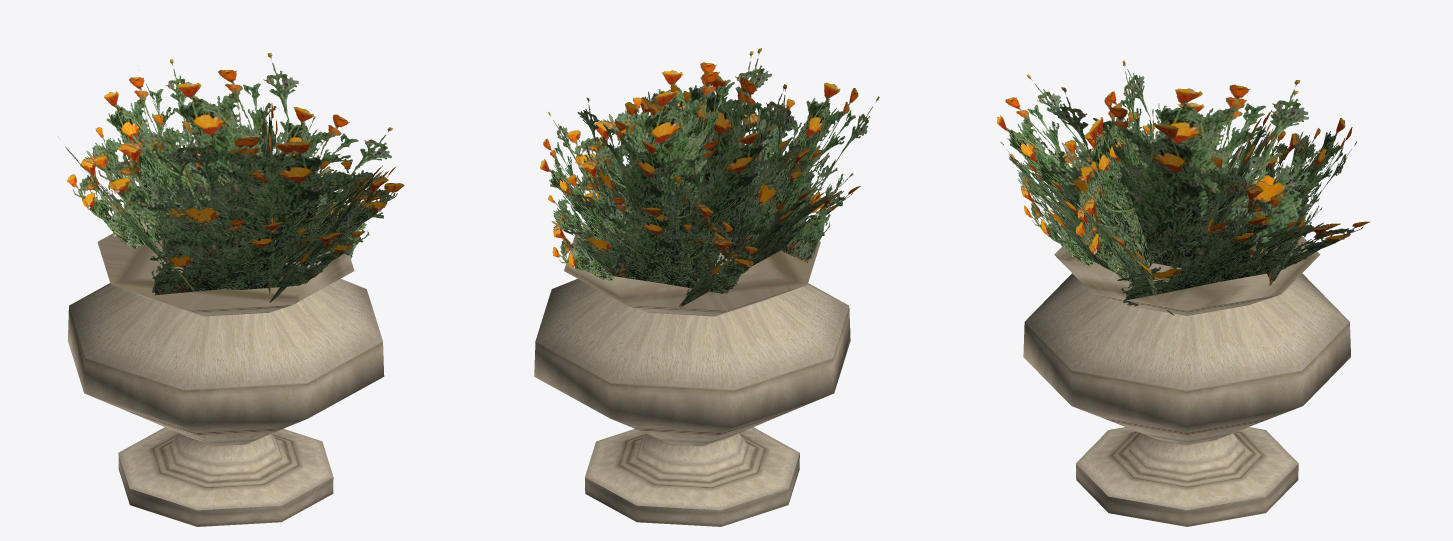
File: thm_nboo_imprv_flower_urn_s01_l0.fbx
The picture shows the model from 3 angles, left to right: view 1: azimuth 30°, elevation 25°; view 2: azimuth 150°, elevation 25°; view 3: azimuth 270°, elevation 25°; orthographic projection.
Visible parts, largest first — view 1: mesh_node; view 2: mesh_node; view 3: mesh_node.
Part boxes in pixels (x1=…): mesh_node: x1=57, y1=53, x2=404, y2=526; mesh_node: x1=534, y1=48, x2=879, y2=526; mesh_node: x1=997, y1=60, x2=1369, y2=526.
Bounding box in the file's own units: 1.06 × 1.13 × 1.25.
